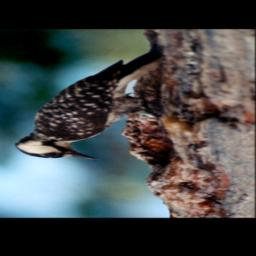Woodpecker: (0, 43, 174, 162)
